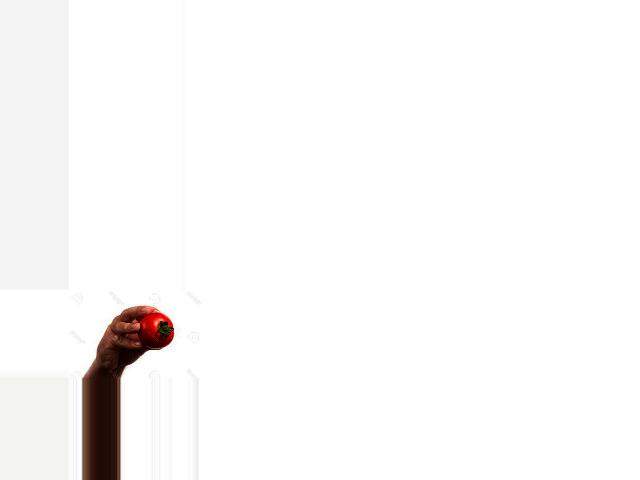tomato: (138, 313, 174, 349)
